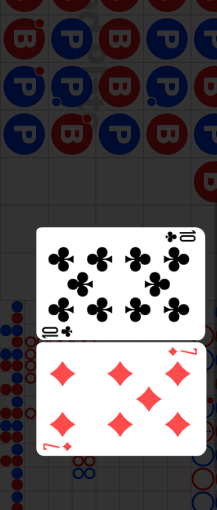10C: (163, 230, 197, 246)
7D: (42, 441, 74, 452)
